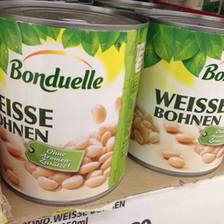beans: (1, 7, 148, 202), (143, 4, 224, 184)
